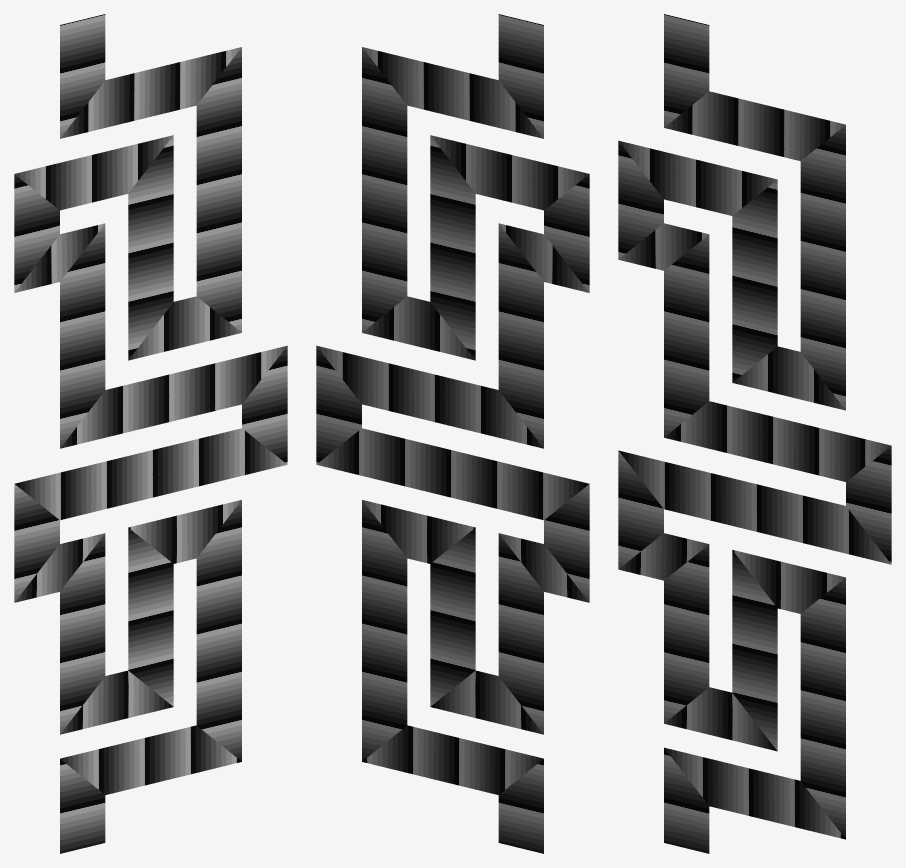
The model's file is AnimatedUV_Offset_01.fbx.
3 views of the same model, side by side, from view 1: azimuth 30°, elevation 25°; view 2: azimuth 150°, elevation 25°; view 3: azimuth 330°, elevation 25° (orthographic).
Visible parts, largest first — view 1: Plane; view 2: Plane; view 3: Plane.
Boxes of the visible parts, x1=… form: Plane: x1=14, y1=14, x2=287, y2=853; Plane: x1=316, y1=14, x2=589, y2=853; Plane: x1=618, y1=14, x2=891, y2=853.
Size of the model in its own units: 120 by 348 by 4.18e-05.
